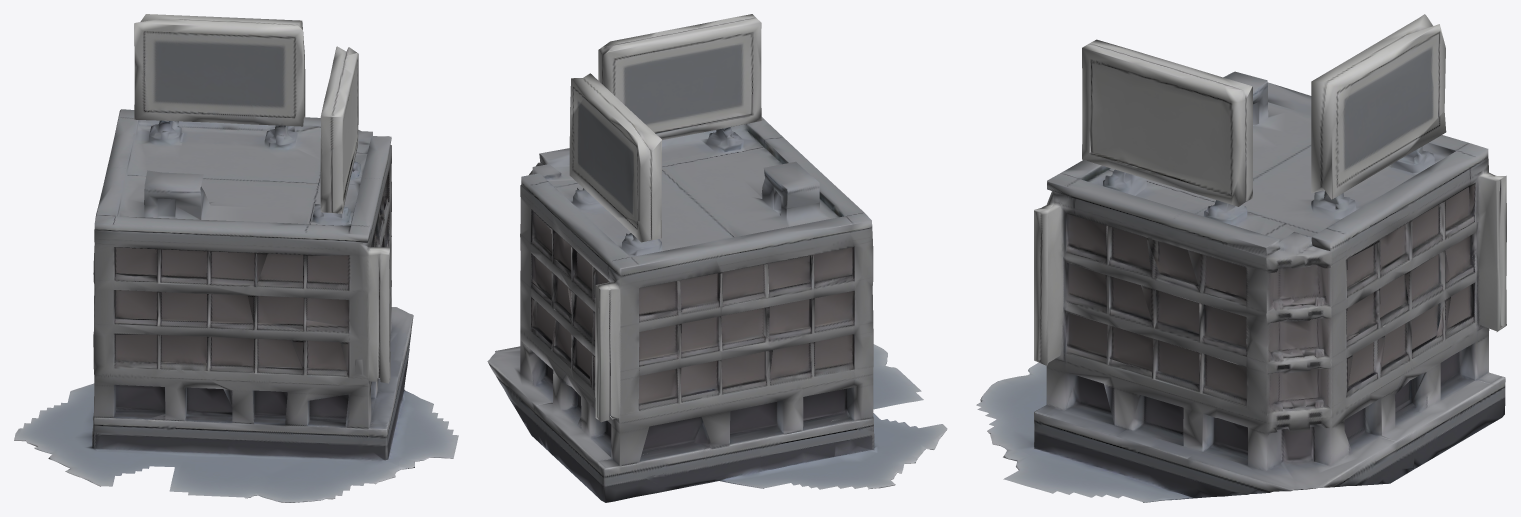
File: parco.glb
3 views of the same model, side by side, from view 1: azimuth 30°, elevation 25°; view 2: azimuth 150°, elevation 25°; view 3: azimuth 270°, elevation 25° (orthographic). The views are drawn at different scales.
Parts seen in each view (by area): view 1: tripo_node_44e2a47d-bed6-46ae-8cfc-d769a12eaa4a; view 2: tripo_node_44e2a47d-bed6-46ae-8cfc-d769a12eaa4a; view 3: tripo_node_44e2a47d-bed6-46ae-8cfc-d769a12eaa4a.
Part boxes in pixels (x1,y1,x2,y2): tripo_node_44e2a47d-bed6-46ae-8cfc-d769a12eaa4a: (14,14,458,502); tripo_node_44e2a47d-bed6-46ae-8cfc-d769a12eaa4a: (487,14,947,502); tripo_node_44e2a47d-bed6-46ae-8cfc-d769a12eaa4a: (976,14,1506,502).
Bounding box in the file's own units: 1.04 × 0.84 × 1.04.
Materials: 1 (1 with a texture image).
